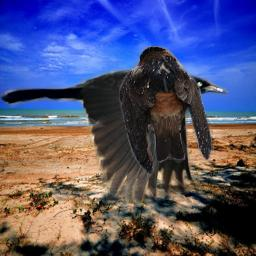Crow: (0, 66, 230, 204)
Swallow: (119, 46, 213, 175)
